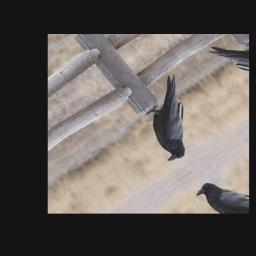Crow: (121, 71, 222, 166)
